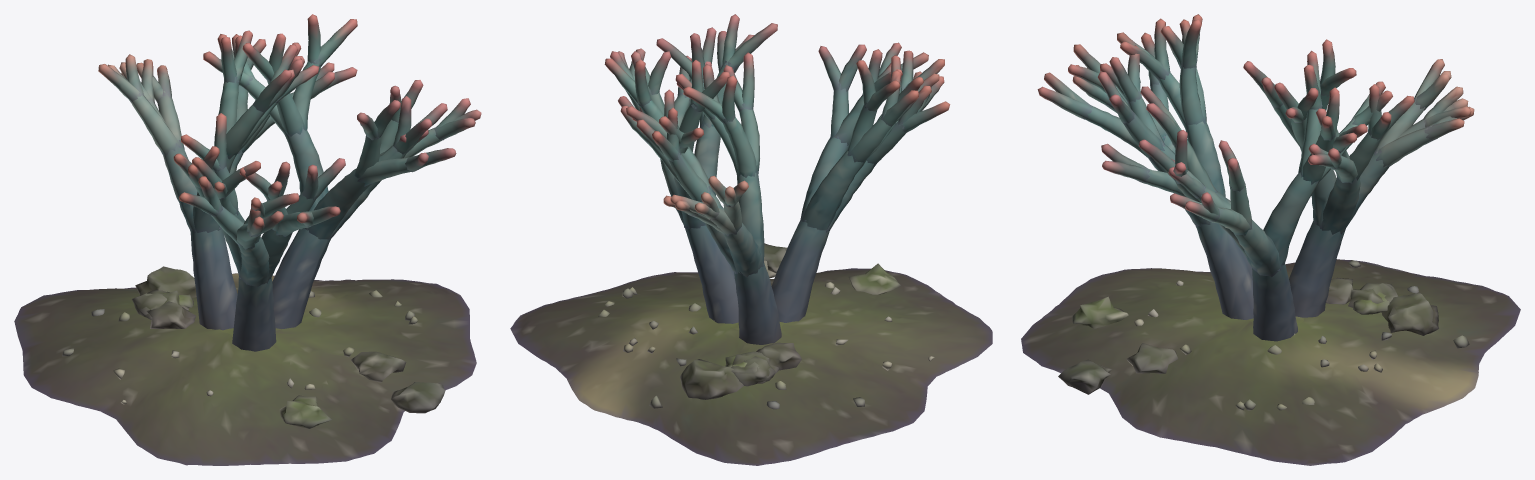
The model's file is mantar_mercan.glb.
The picture shows the model from 3 angles, left to right: view 1: azimuth 30°, elevation 25°; view 2: azimuth 150°, elevation 25°; view 3: azimuth 270°, elevation 25°; orthographic projection. The views are drawn at different scales.
Visible parts, largest first — view 1: mantar_mercan_LOD0; view 2: mantar_mercan_LOD0; view 3: mantar_mercan_LOD0.
Part boxes in pixels (x1,y1,x2,y2): mantar_mercan_LOD0: (14,14,481,465); mantar_mercan_LOD0: (510,14,992,465); mantar_mercan_LOD0: (1021,14,1520,465).
Size of what is drawn, in the model's own units: 0.5939 by 0.4201 by 0.6058.
